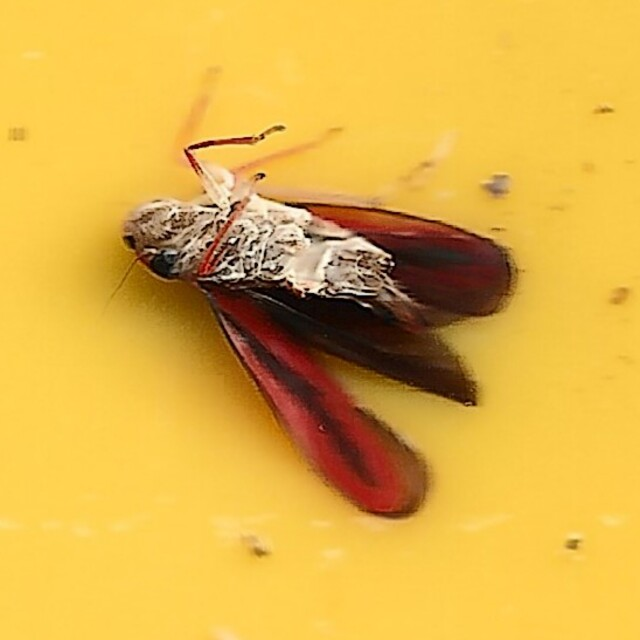Hemiptera: (117, 117, 523, 523)
